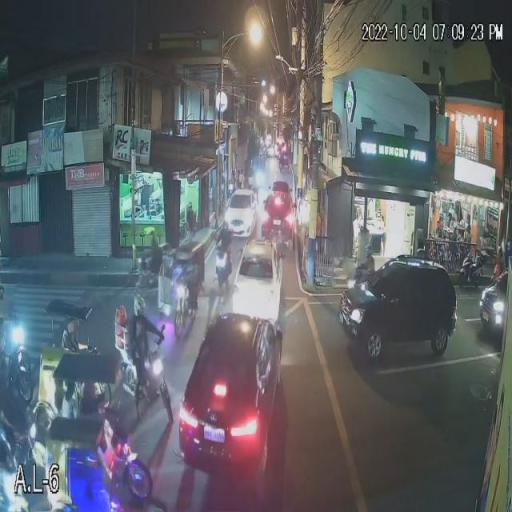helmet: (129, 291, 149, 323), (221, 223, 230, 232)
motorcycle: (113, 344, 176, 418), (213, 242, 235, 292)
rider: (127, 319, 160, 411), (218, 231, 232, 254)
